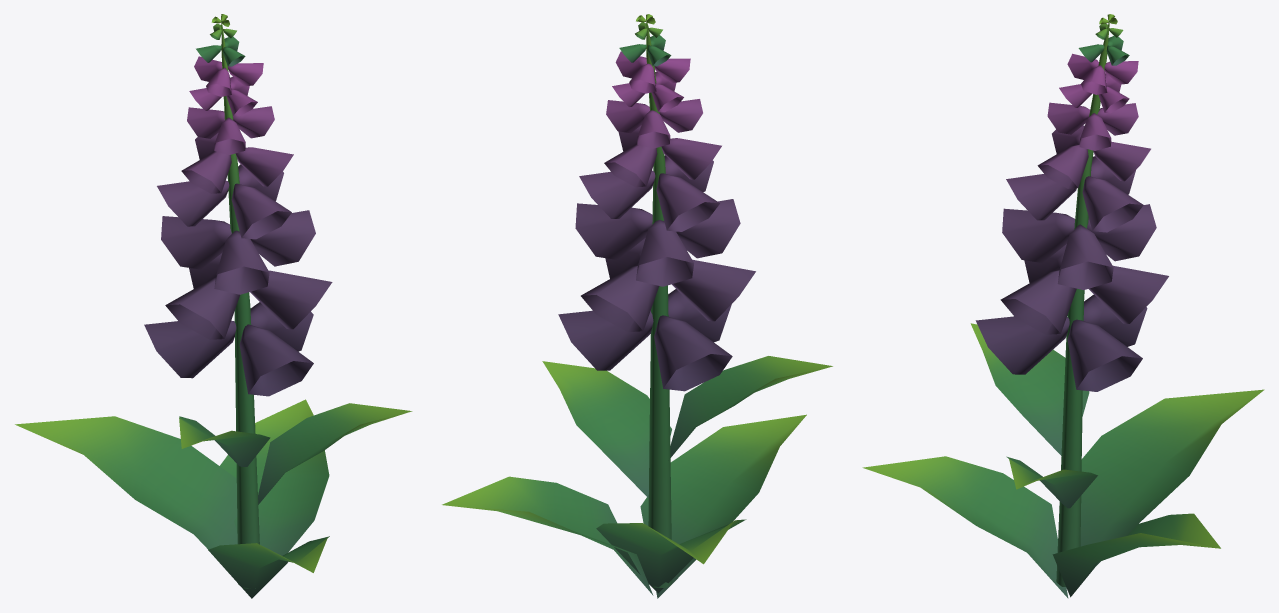
The model's file is flower18.glb.
3 renders of one model, left to right at view 1: azimuth 30°, elevation 25°; view 2: azimuth 150°, elevation 25°; view 3: azimuth 270°, elevation 25°, orthographic. The views are drawn at different scales.
Visible parts, largest first — view 1: Flower.025; view 2: Flower.025; view 3: Flower.025.
Boxes of the visible parts, left/top/right/bottom form: Flower.025: left=15, top=14, right=412, bottom=598; Flower.025: left=442, top=14, right=832, bottom=598; Flower.025: left=862, top=14, right=1264, bottom=598.
Bounding box in the file's own units: 1.67 × 3.31 × 2.09.
1 material, 1 textured.
